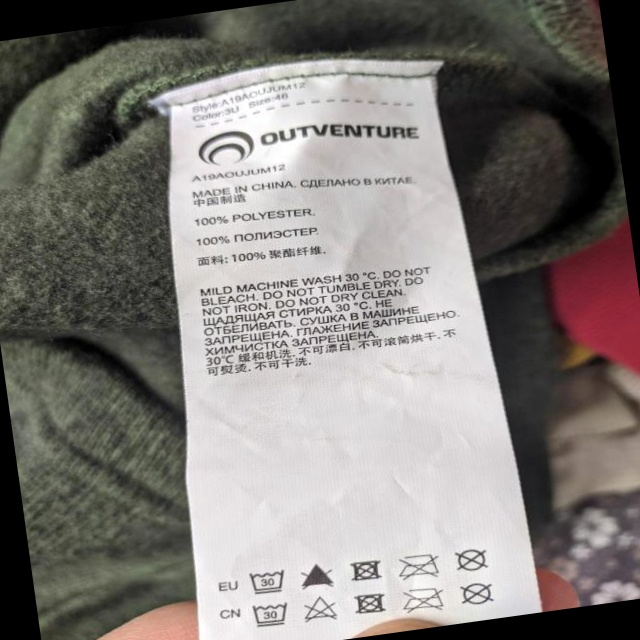30C: (247, 560, 292, 600), (249, 599, 293, 629)
DN_bleach: (298, 556, 338, 592), (301, 594, 340, 626)
DN_dry_clean: (456, 578, 500, 609), (454, 544, 493, 575)
DN_iron: (396, 548, 445, 584), (401, 582, 449, 615)
DN_tumble_dry: (351, 588, 392, 618), (346, 555, 385, 586)
